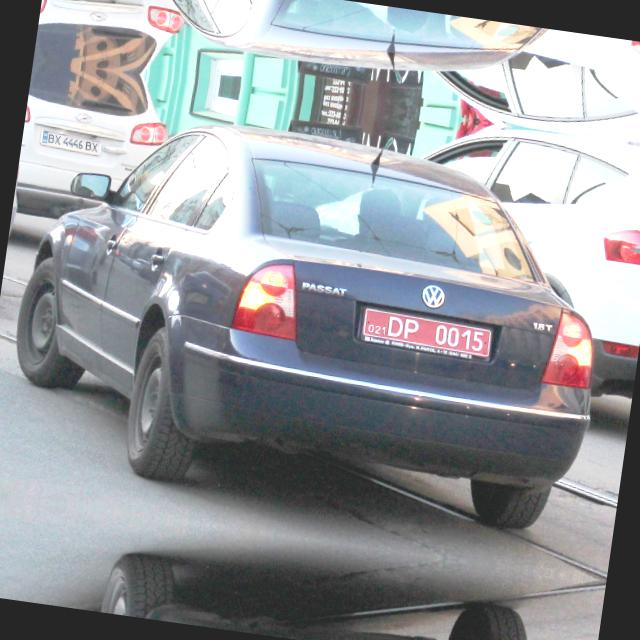citizen: (30, 118, 106, 160), (51, 0, 127, 11)
diplomatic: (355, 302, 501, 364)
